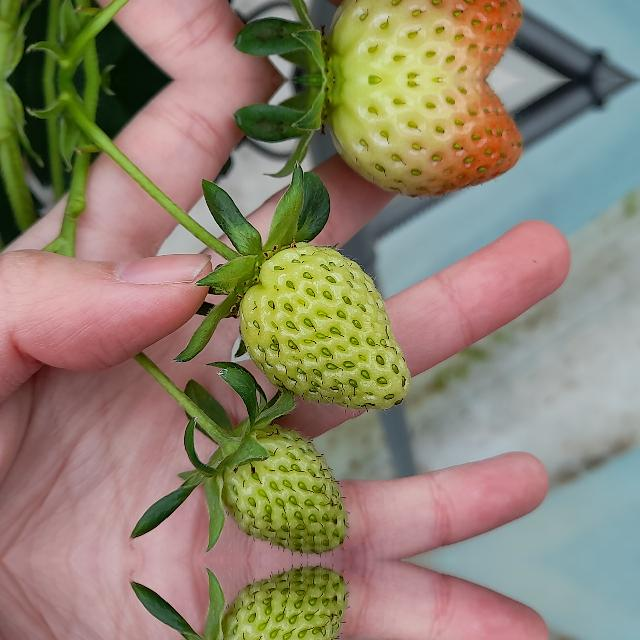Health_25: (240, 242, 410, 408), (203, 435, 355, 549), (203, 571, 355, 640)
Health_50: (314, 82, 524, 194), (314, 0, 524, 77)
